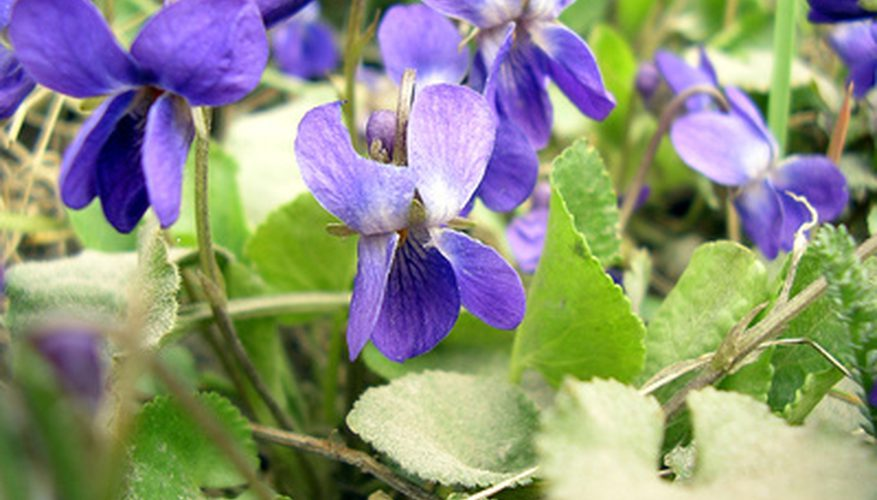violet: (271, 83, 547, 353), (7, 2, 268, 233), (672, 97, 853, 261)
